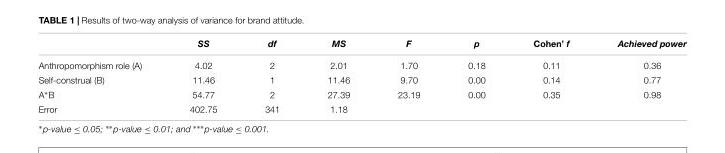table: (37, 37, 685, 113)
table column: (37, 37, 165, 113), (592, 37, 685, 113), (508, 37, 592, 113), (165, 37, 240, 113), (302, 37, 373, 113), (373, 37, 443, 113), (443, 37, 508, 113), (240, 37, 302, 113)
table column header: (37, 37, 685, 53)
table row: (37, 53, 685, 71), (37, 37, 685, 53), (37, 71, 685, 86), (37, 86, 685, 101), (37, 101, 685, 113)
